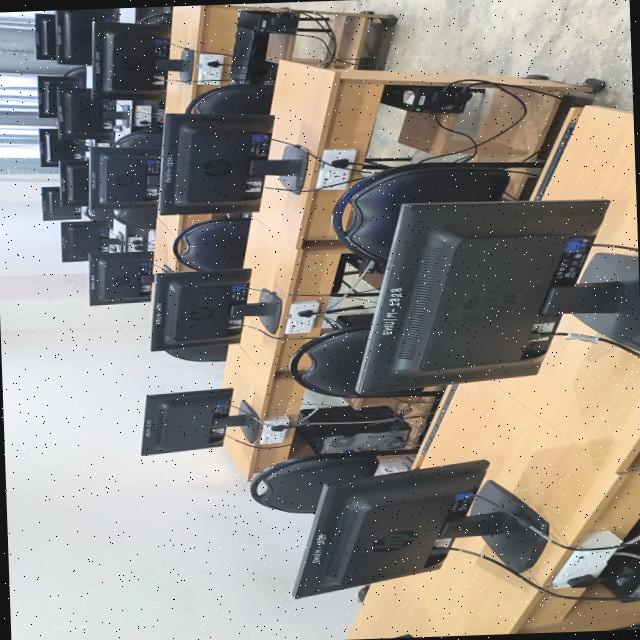Chair: (331, 161, 544, 264), (250, 448, 412, 512), (289, 325, 423, 397), (173, 217, 249, 269), (185, 83, 273, 113), (165, 345, 226, 361), (113, 207, 156, 228), (113, 129, 161, 147), (84, 207, 114, 220)
Cpu: (297, 404, 408, 451), (599, 538, 640, 596), (625, 517, 640, 538)
Monitor: (357, 199, 640, 392), (294, 459, 548, 597), (159, 113, 311, 214), (150, 268, 281, 350), (92, 19, 193, 99), (141, 387, 258, 454), (88, 146, 159, 208), (55, 7, 116, 65), (88, 251, 152, 304), (58, 88, 112, 139), (61, 220, 120, 260), (38, 75, 74, 117), (39, 128, 75, 166), (41, 185, 80, 220), (60, 159, 88, 205), (35, 12, 56, 59)
